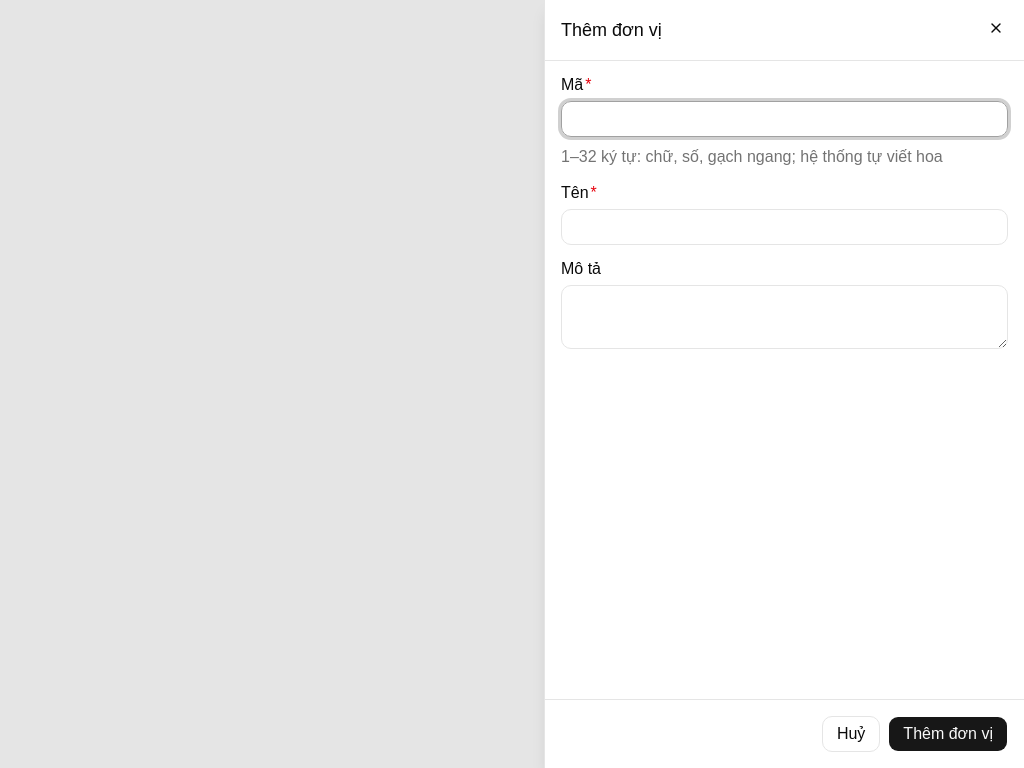
Test: UnitFormSheet › tạo: 100906 (mã trùng) → lỗi tại ô Mã, không toast lỗi
Type "KG" into the field labelled "Mã *" at (784, 119), box top-left (561, 101), bottom-right (1008, 137)
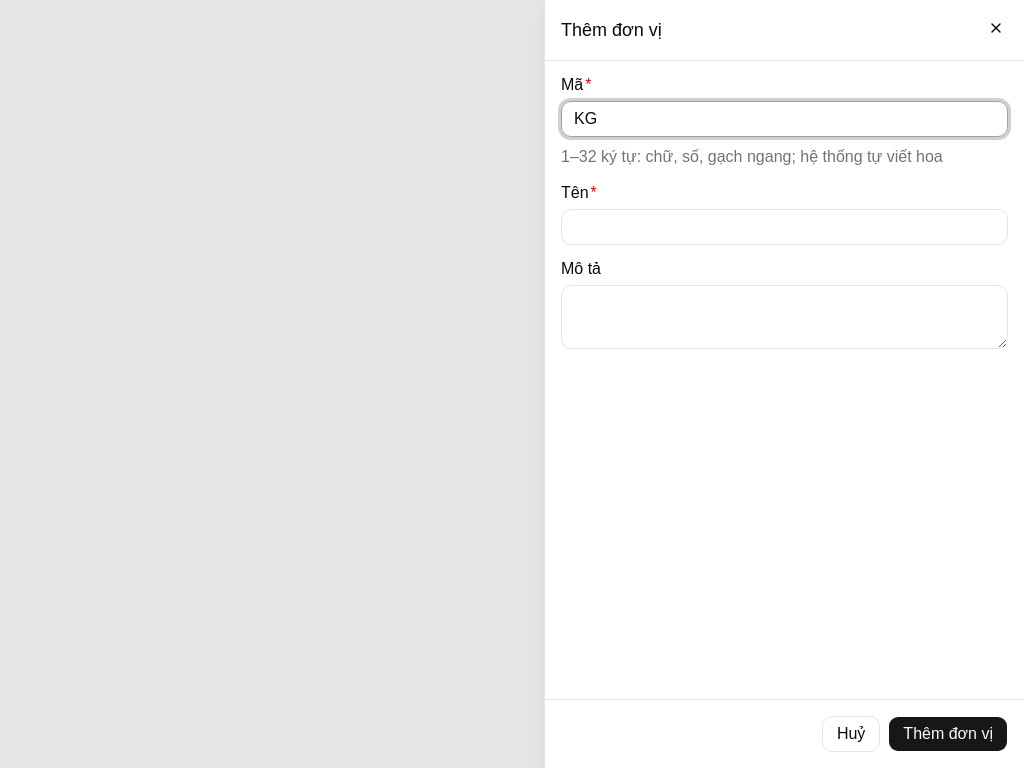
Type "Kilogram" into the field labelled "Tên *" at (784, 227), box top-left (561, 209), bottom-right (1008, 245)
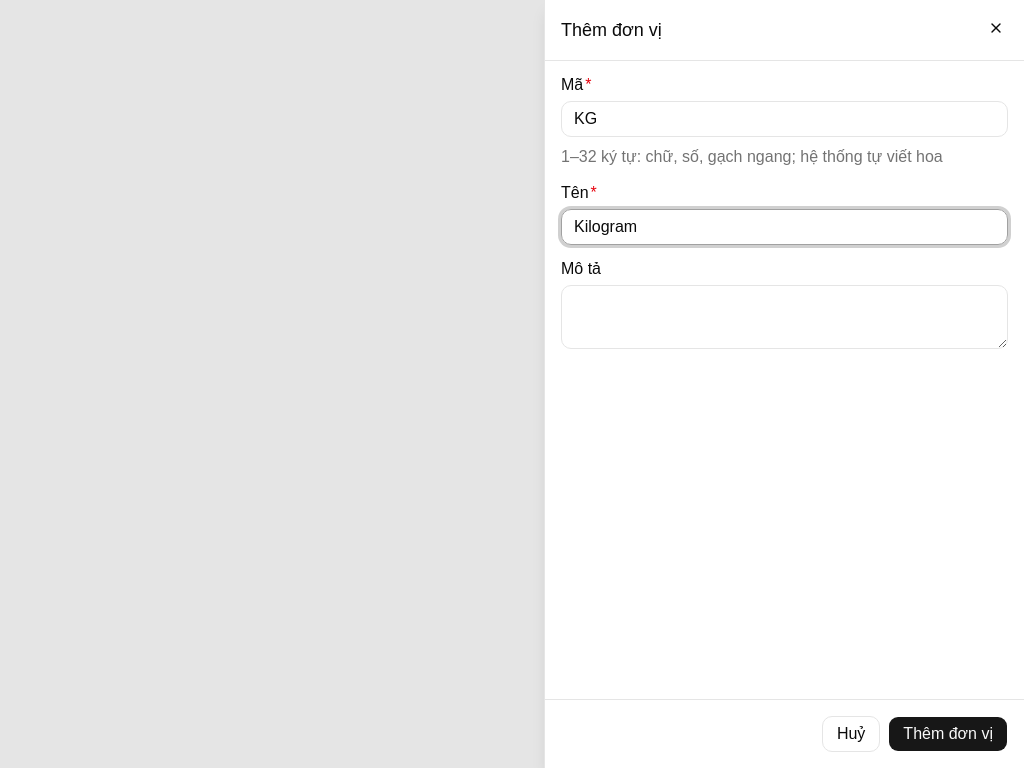
Click the button "Thêm đơn vị" at (948, 734), box top-left (888, 716), bottom-right (1008, 752)
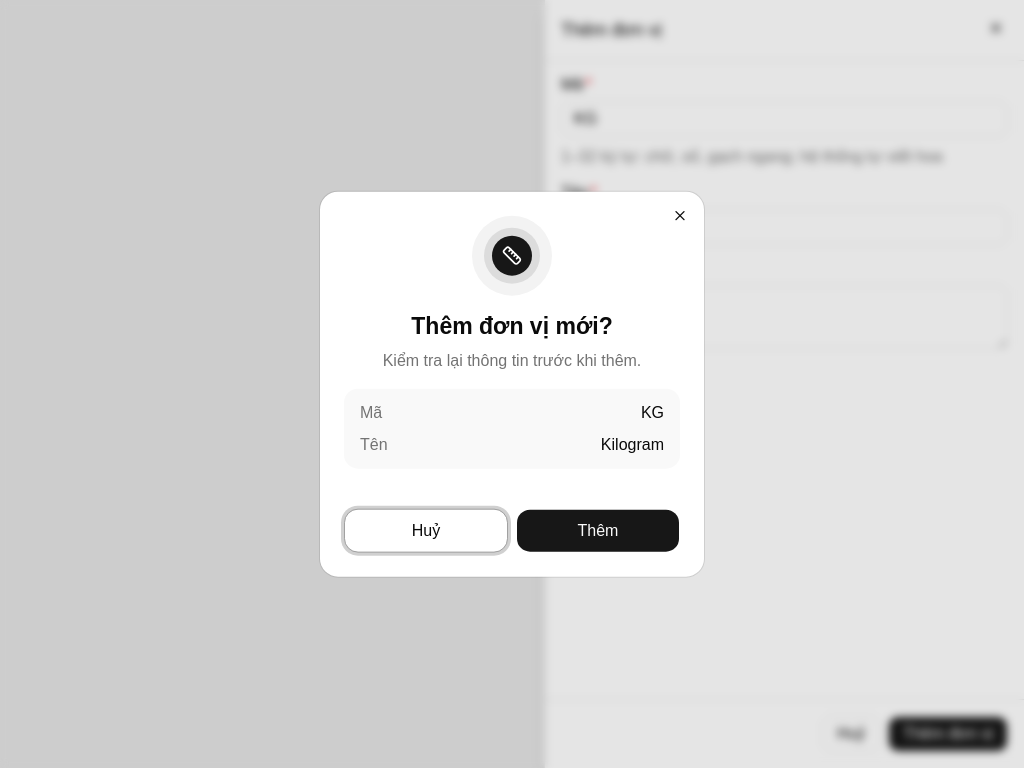
Click the button "Thêm" at (598, 530), box top-left (516, 508), bottom-right (680, 552)
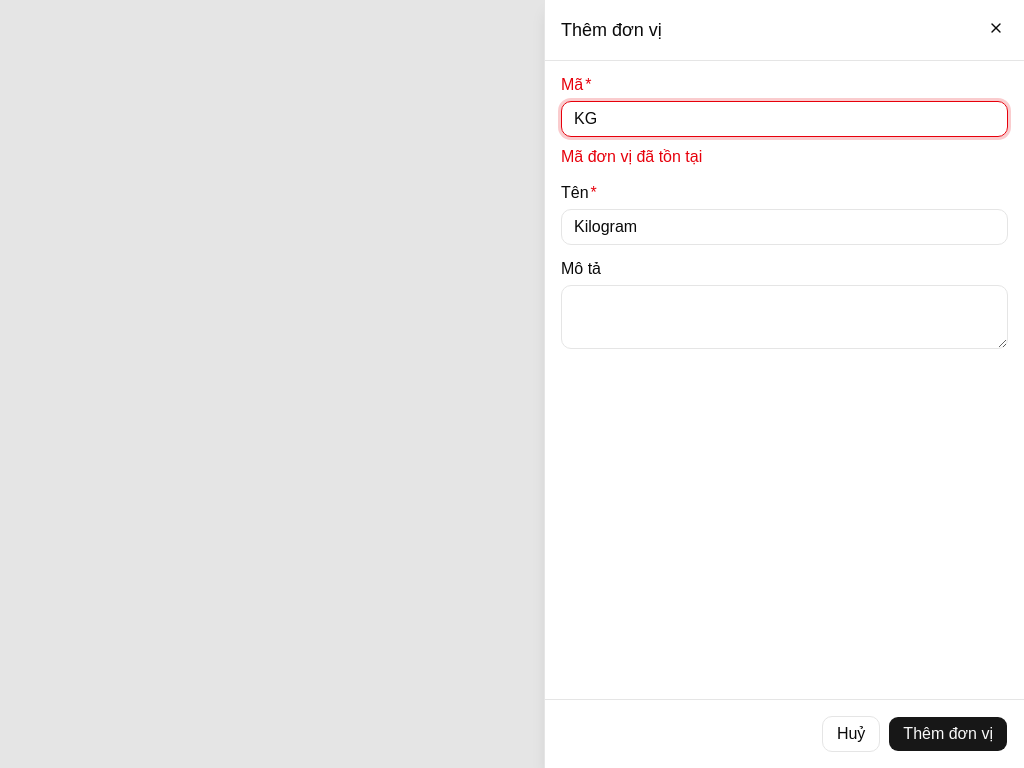
Check: the text "Mã đơn vị đã tồn tại" is shown, box top-left (561, 148), bottom-right (702, 165)
